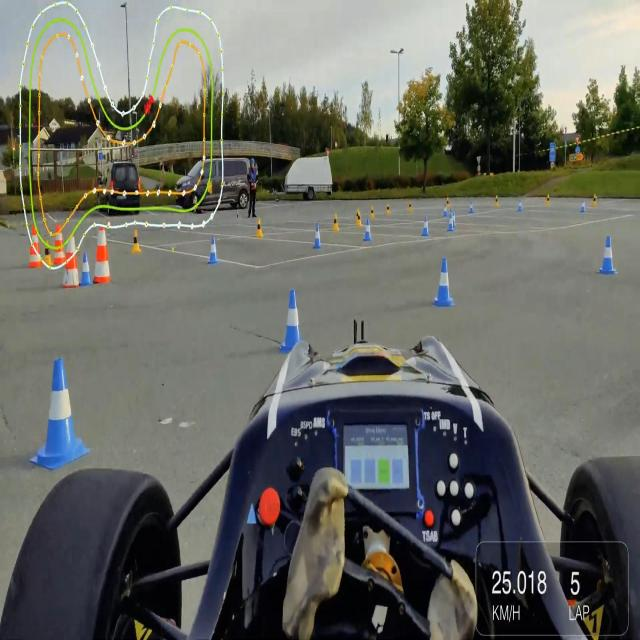blue_cone: (37, 346, 84, 471), (278, 276, 306, 353), (427, 248, 458, 314), (596, 230, 620, 284), (205, 232, 222, 280), (308, 214, 326, 255), (82, 251, 90, 281), (365, 222, 374, 238)
large_orange_cone: (25, 222, 45, 272), (96, 229, 115, 280), (53, 223, 66, 264), (68, 236, 78, 282)
